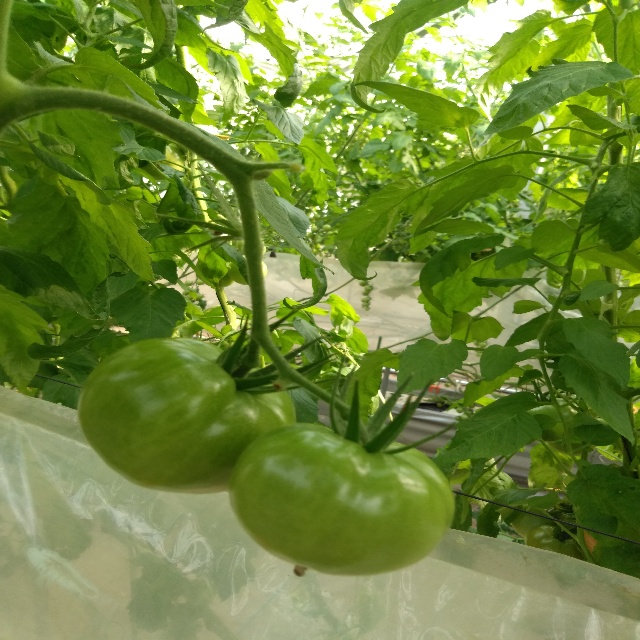b_green: (229, 423, 456, 576), (78, 337, 297, 495)
